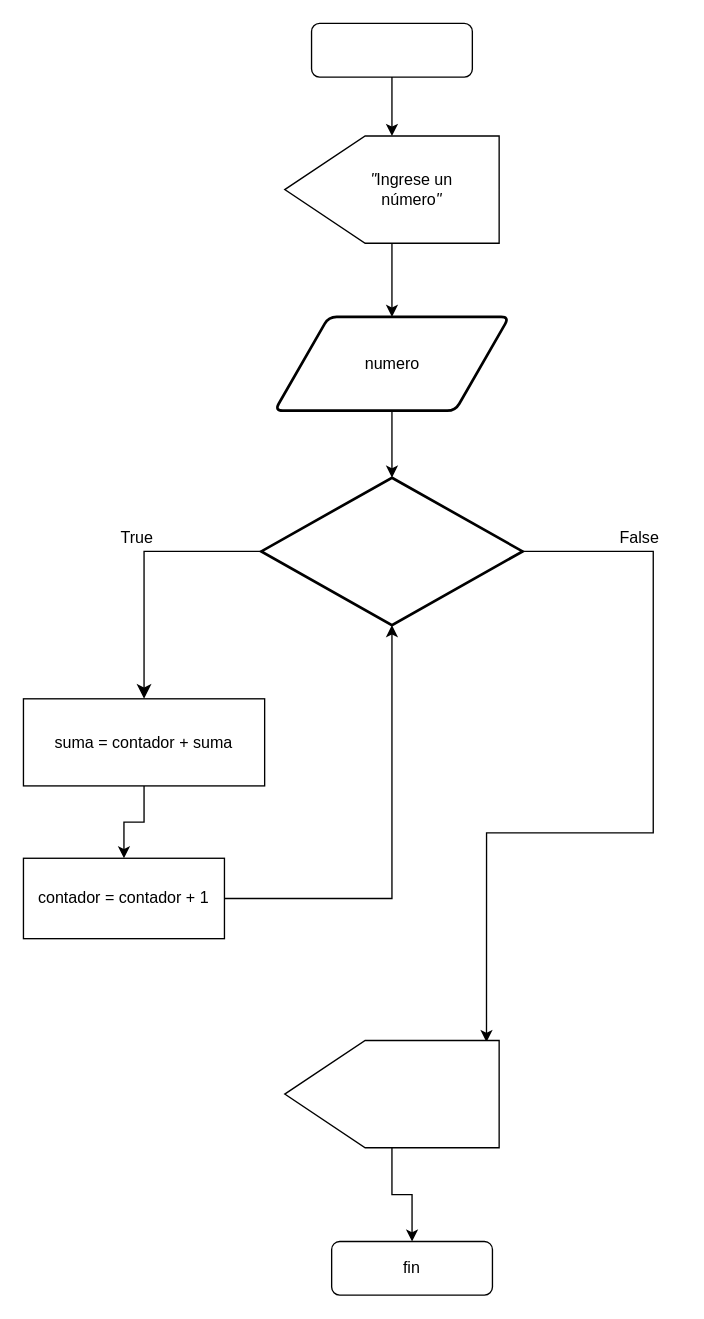
Some shapes in this 704 by 1319 pixel diagram are drawn without their labels. The shapes that lost their labels are listed below. From the top down, each one's centre as x and y in pixels, then its label:
(391,49): Inicio
(391,551): contador <= numero
(391,1093): "La suma es de " suma
